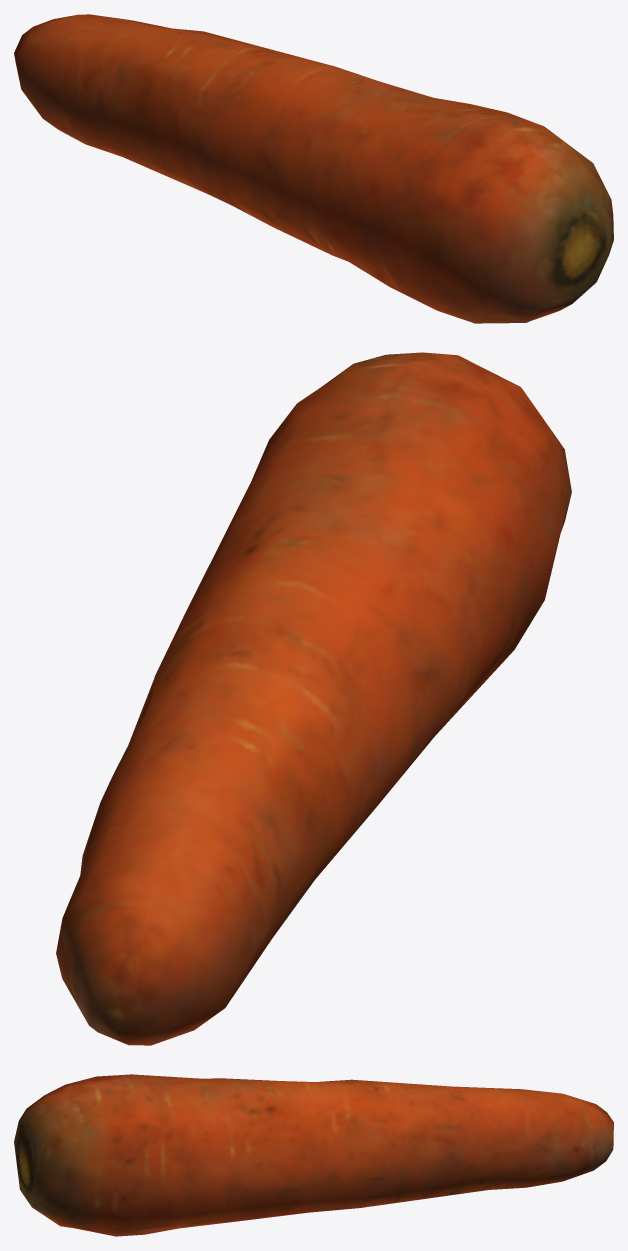
Rendered from Carrot.glb.
The picture shows the model from 3 angles, top to bottom: view 1: azimuth 30°, elevation 25°; view 2: azimuth 150°, elevation 25°; view 3: azimuth 270°, elevation 25°; orthographic projection. The views are drawn at different scales.
Visible parts, largest first — view 1: MDCNR80B8B40_LOD2(Clone)_Quality_20; view 2: MDCNR80B8B40_LOD2(Clone)_Quality_20; view 3: MDCNR80B8B40_LOD2(Clone)_Quality_20.
Boxes of the visible parts, left/top/right/bottom form: MDCNR80B8B40_LOD2(Clone)_Quality_20: left=14, top=14, right=613, bottom=323; MDCNR80B8B40_LOD2(Clone)_Quality_20: left=56, top=352, right=571, bottom=1045; MDCNR80B8B40_LOD2(Clone)_Quality_20: left=14, top=1074, right=613, bottom=1236.
Size of the model in its own units: 0.7182 by 0.4987 by 1.83.
Materials: 1 (1 with a texture image).
